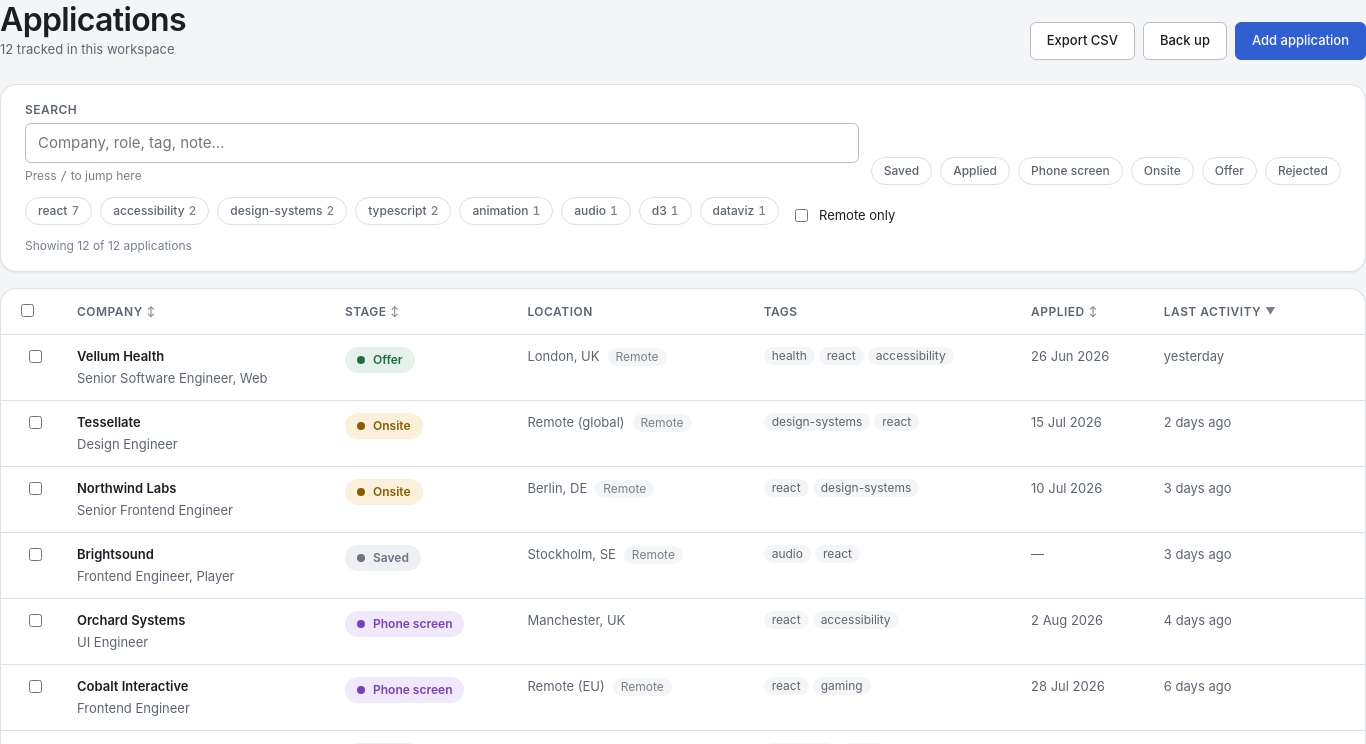
it: BulkActionsBar › pluralises the selection count
This screenshot has width=1366, height=744.
Expected: the checkbox named "Select Vellum Health" is shown, [29,350,42,363]
Click the checkbox named "Select all applications" at point(28, 310), box [21,304,34,317]
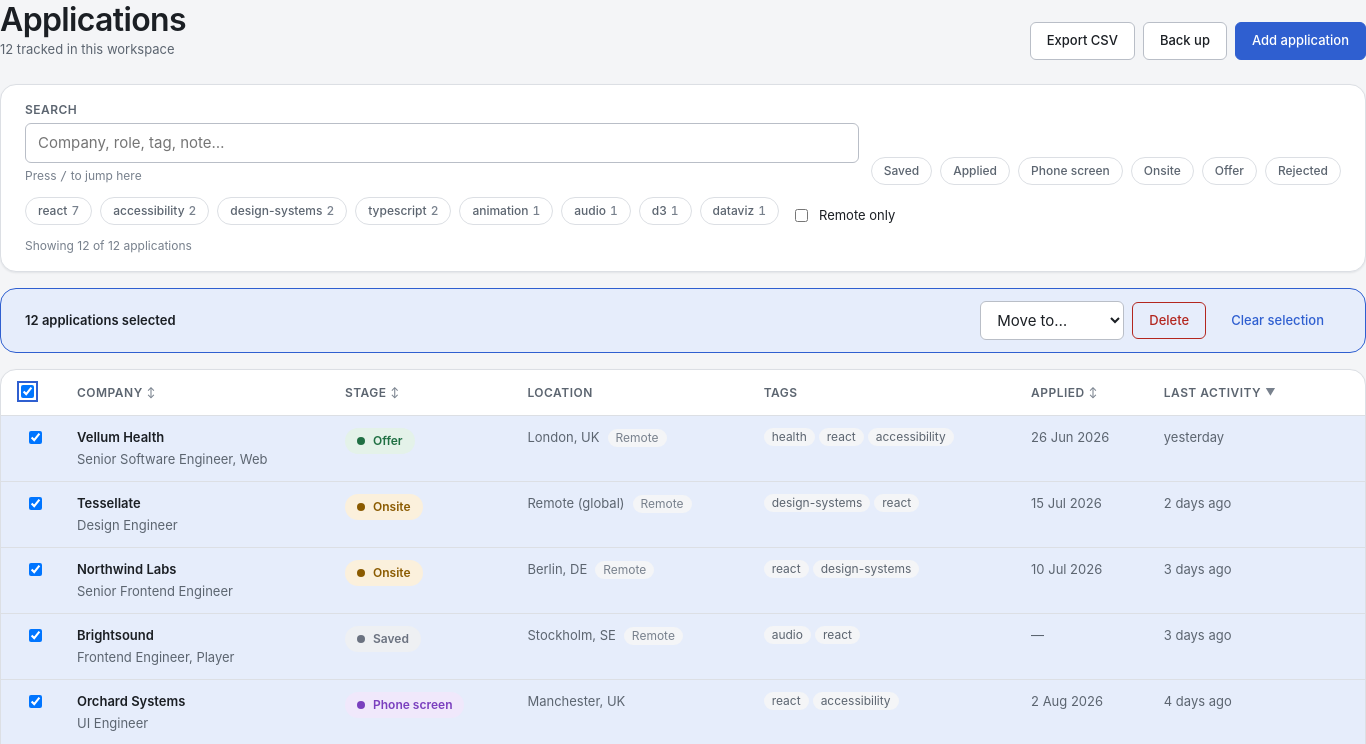
Result: the text "12 applications selected" is shown at [25,311,176,330]
